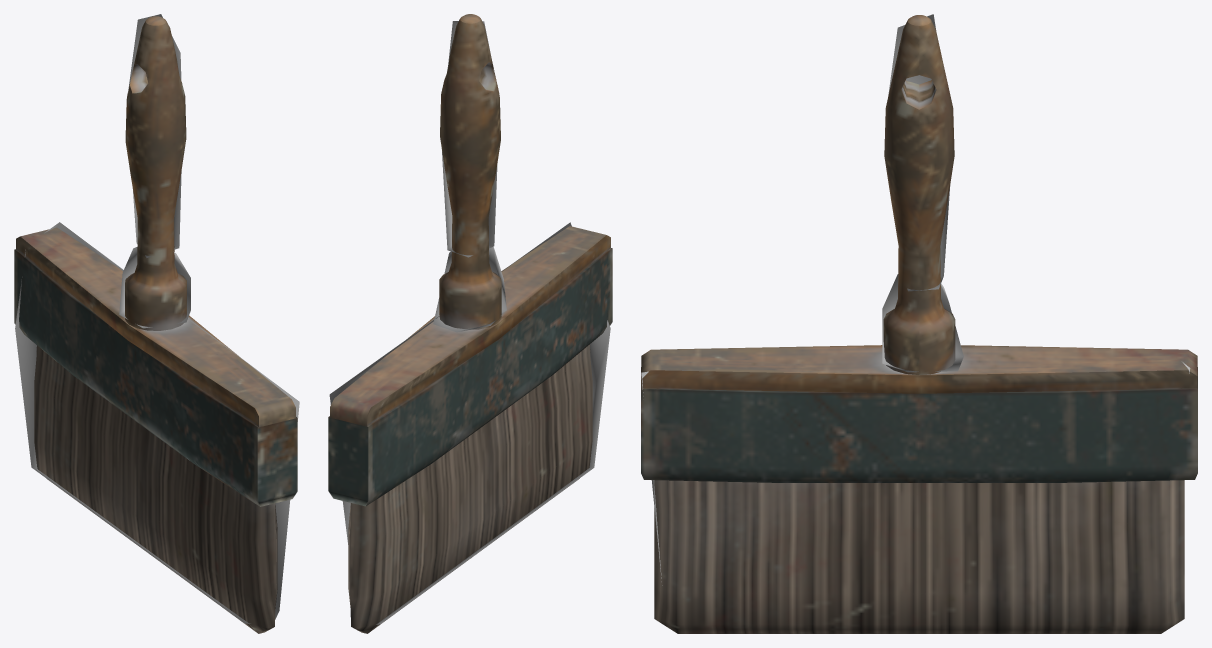
Rendered from SM_Brush01.gltf.
3 renders of one model, left to right at view 1: azimuth 30°, elevation 25°; view 2: azimuth 150°, elevation 25°; view 3: azimuth 270°, elevation 25°, orthographic. The views are drawn at different scales.
Visible parts, largest first — view 1: SM_Brush01_LOD0, SM_Brush01_ConvexHulls; view 2: SM_Brush01_LOD0, SM_Brush01_ConvexHulls; view 3: SM_Brush01_LOD0, SM_Brush01_ConvexHulls.
Part boxes in pixels (<box>): SM_Brush01_LOD0: <box>14,16,297,633</box>; SM_Brush01_ConvexHulls: <box>15,14,299,623</box>; SM_Brush01_LOD0: <box>328,14,612,633</box>; SM_Brush01_ConvexHulls: <box>329,21,610,624</box>; SM_Brush01_LOD0: <box>641,15,1197,633</box>; SM_Brush01_ConvexHulls: <box>641,14,1190,585</box>.
Size of what is drawn, in the model's own units: 0.0373 by 0.3257 by 0.2678.
